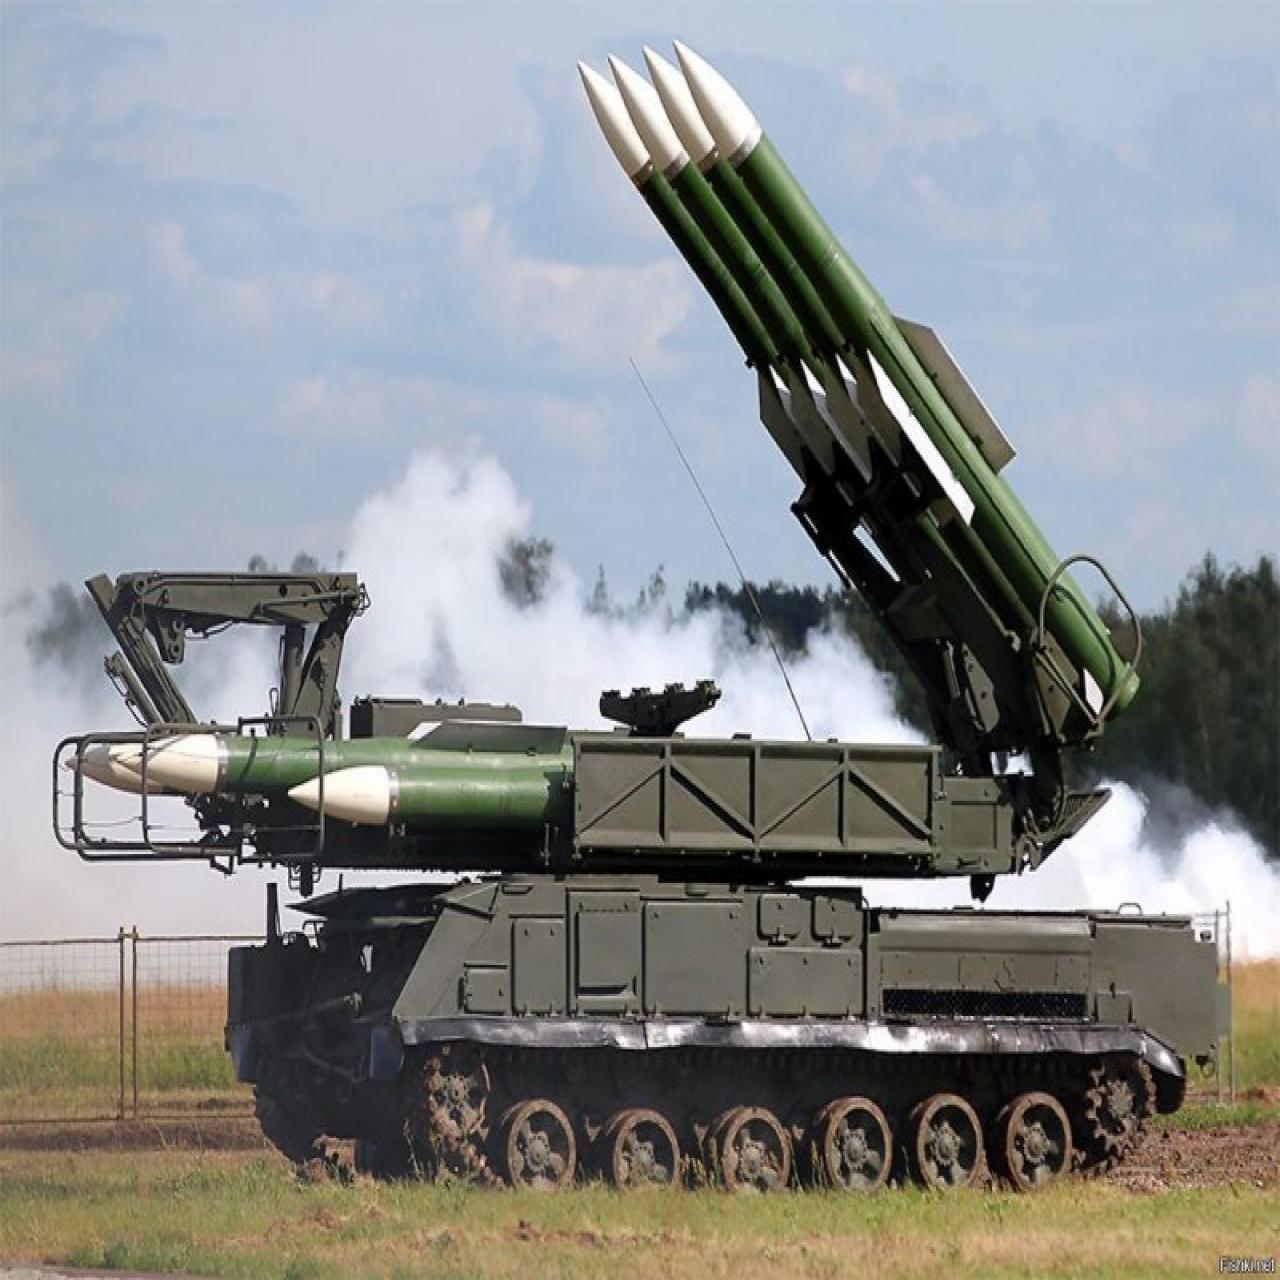MIL_Veh: (82, 42, 1223, 1183)
